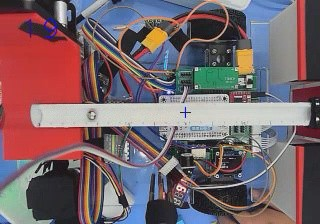ironball: (85, 110, 96, 120)
